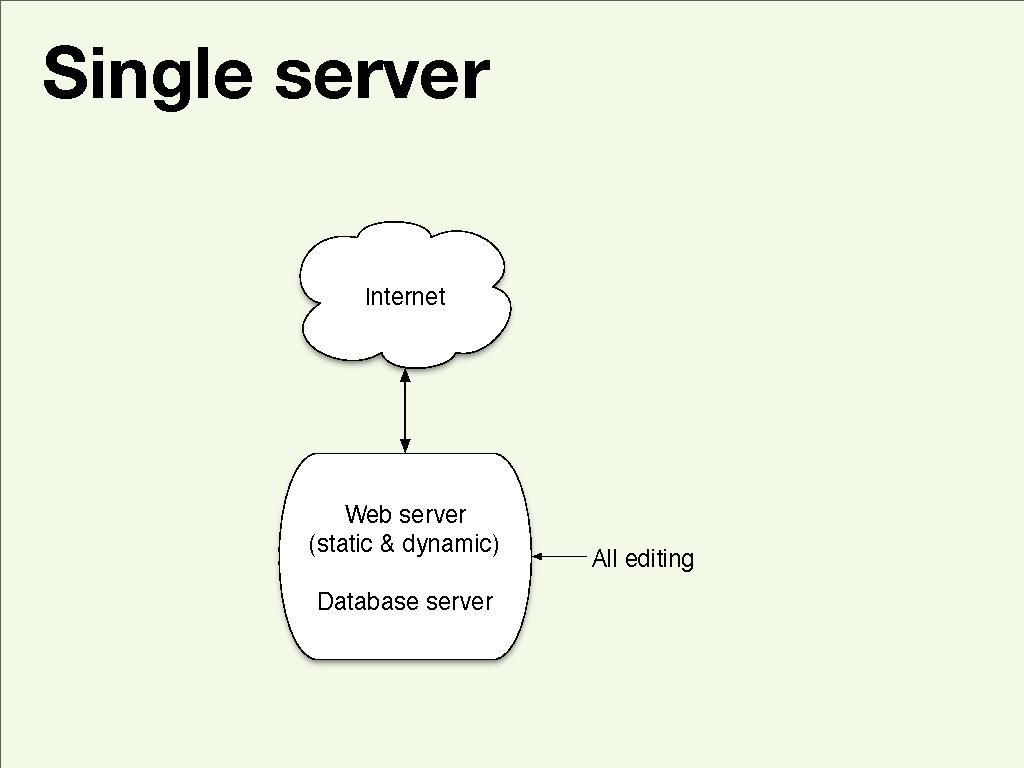title: (27, 16, 508, 122)
